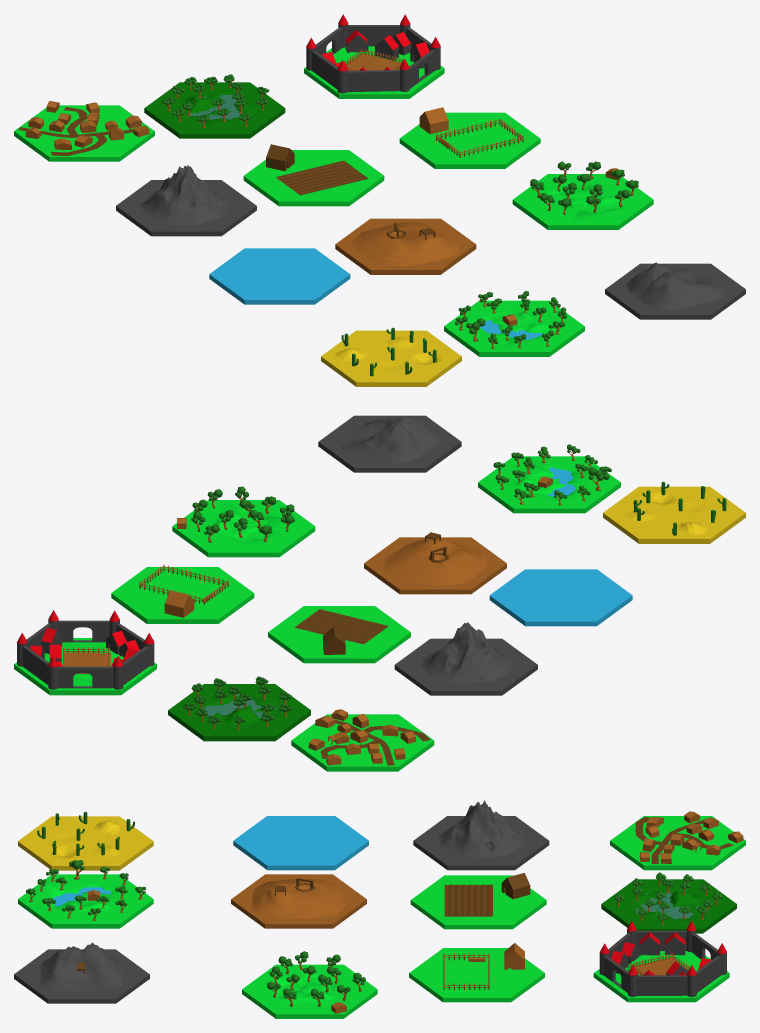
The model's file is hexagon_tiles.glb.
The picture shows the model from 3 angles, top to bottom: view 1: azimuth 30°, elevation 25°; view 2: azimuth 150°, elevation 25°; view 3: azimuth 270°, elevation 25°; orthographic projection. The views are drawn at different scales.
Parts seen in each view (by area): view 1: Cylinder.003, sea, tile mine, dessert, tile animalFarm, tile crop Farm, sea.002, clay pit.002, Landscape.019, sea.001, forestlake, sea.003 (+13 smaller); view 2: Cylinder.003, tile mine, sea, dessert, tile animalFarm, tile crop Farm, sea.002, clay pit.002, Landscape.019, sea.001, sea.003, normal forest (+13 smaller); view 3: Cylinder.003, tile mine, sea, dessert, tile animalFarm, tile crop Farm, sea.002, clay pit.002, forestlake, Landscape.019, sea.001, normal forest (+15 smaller).
Boxes of the visible parts, x1=… form: Cylinder.003: x1=306, y1=14, x2=440, y2=93; sea: x1=209, y1=248, x2=350, y2=304; tile mine: x1=605, y1=262, x2=745, y2=319; dessert: x1=321, y1=330, x2=461, y2=386; tile animalFarm: x1=399, y1=112, x2=540, y2=168; tile crop Farm: x1=243, y1=150, x2=384, y2=206; sea.002: x1=14, y1=105, x2=154, y2=161; clay pit.002: x1=350, y1=221, x2=459, y2=266; Landscape.019: x1=139, y1=165, x2=230, y2=224; sea.001: x1=116, y1=180, x2=256, y2=236; forestlake: x1=444, y1=300, x2=584, y2=356; sea.003: x1=144, y1=82, x2=285, y2=138; Cylinder.003: x1=17, y1=610, x2=154, y2=689; tile mine: x1=318, y1=415, x2=461, y2=472; sea: x1=489, y1=569, x2=632, y2=626; dessert: x1=603, y1=486, x2=745, y2=543; tile animalFarm: x1=111, y1=567, x2=254, y2=623; tile crop Farm: x1=268, y1=606, x2=410, y2=663; sea.002: x1=291, y1=714, x2=434, y2=771; clay pit.002: x1=382, y1=538, x2=488, y2=585; Landscape.019: x1=421, y1=622, x2=513, y2=683; sea.001: x1=394, y1=638, x2=537, y2=695; sea.003: x1=168, y1=684, x2=310, y2=741; normal forest: x1=172, y1=500, x2=315, y2=557; Cylinder.003: x1=599, y1=920, x2=726, y2=996; tile mine: x1=14, y1=942, x2=149, y2=1003; sea: x1=233, y1=816, x2=368, y2=870; dessert: x1=18, y1=816, x2=153, y2=870; tile animalFarm: x1=409, y1=948, x2=544, y2=1002; tile crop Farm: x1=410, y1=875, x2=546, y2=929; sea.002: x1=610, y1=816, x2=745, y2=870; clay pit.002: x1=251, y1=879, x2=344, y2=918; forestlake: x1=18, y1=874, x2=153, y2=928; Landscape.019: x1=438, y1=800, x2=524, y2=858; sea.001: x1=413, y1=816, x2=549, y2=870; normal forest: x1=242, y1=964, x2=377, y2=1018.
Bounding box in the file's own units: 6.78 × 0.8063 × 10.77.
